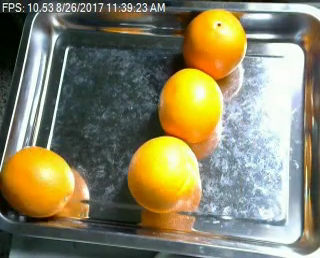Orange: (127, 135, 200, 213), (1, 145, 75, 217), (158, 68, 223, 144), (181, 8, 246, 79)
